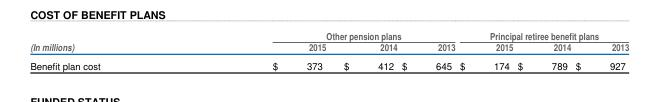table: (29, 28, 628, 71)
table column: (29, 28, 185, 71), (185, 28, 334, 71), (334, 28, 398, 71), (398, 28, 456, 71), (456, 28, 514, 71), (514, 28, 572, 71), (572, 28, 628, 71)
table column header: (29, 28, 628, 55)
table row: (29, 55, 628, 71), (29, 41, 628, 55), (29, 28, 628, 41)
table spanning cell: (29, 28, 185, 55), (185, 28, 456, 41), (456, 28, 628, 41)
